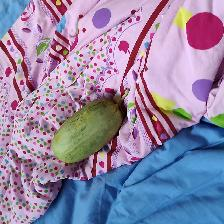gua: (55, 104, 125, 161)
